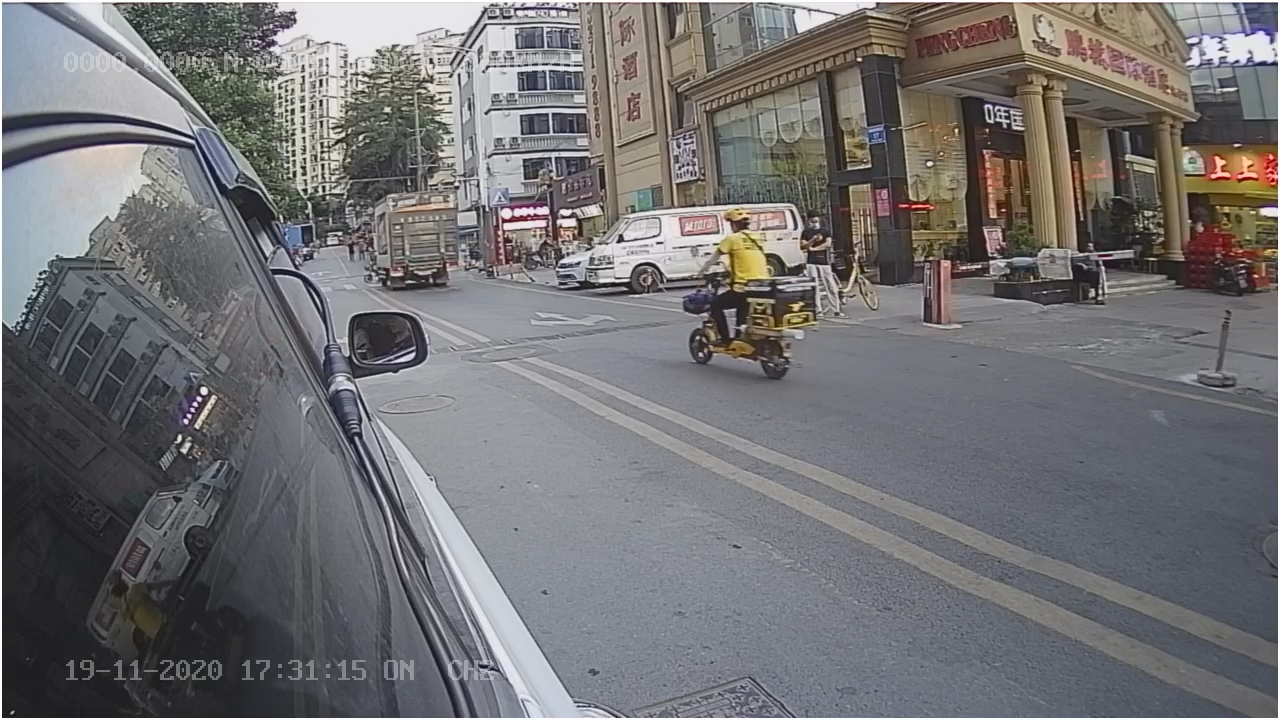person: (703, 203, 775, 283)
